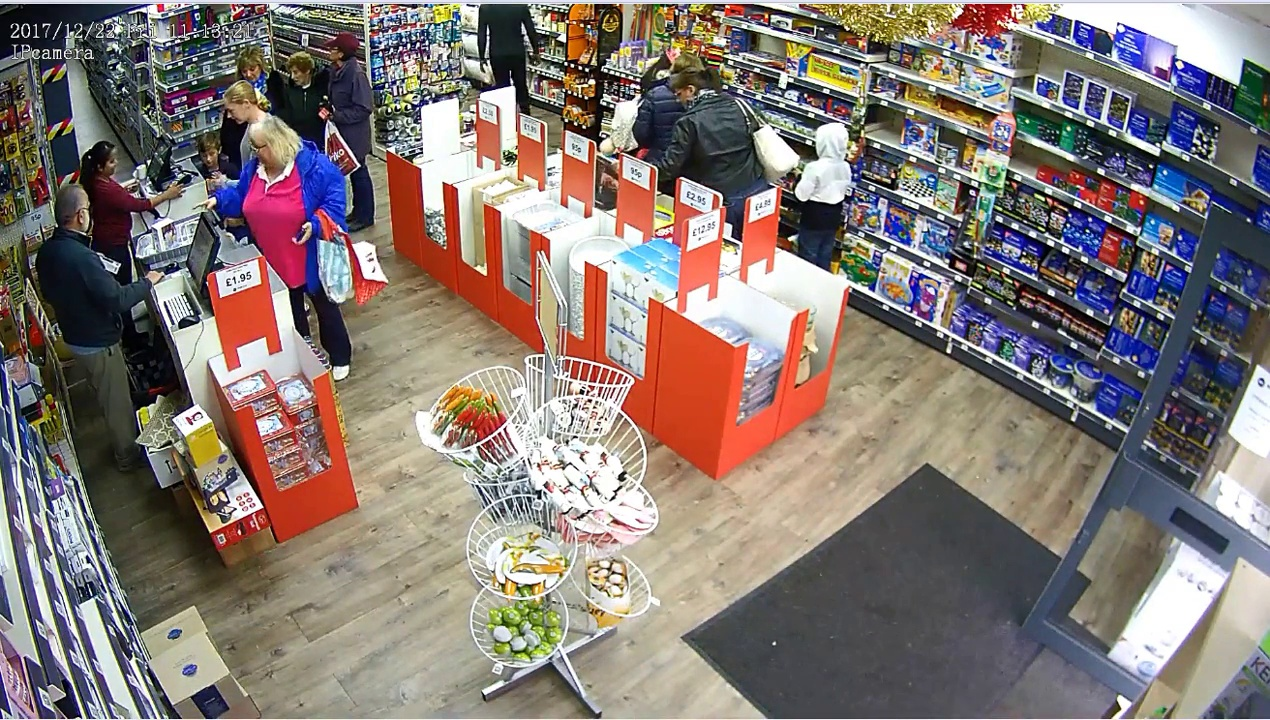face: (241, 59, 261, 87), (198, 143, 219, 167), (285, 61, 304, 87), (224, 101, 243, 127)
